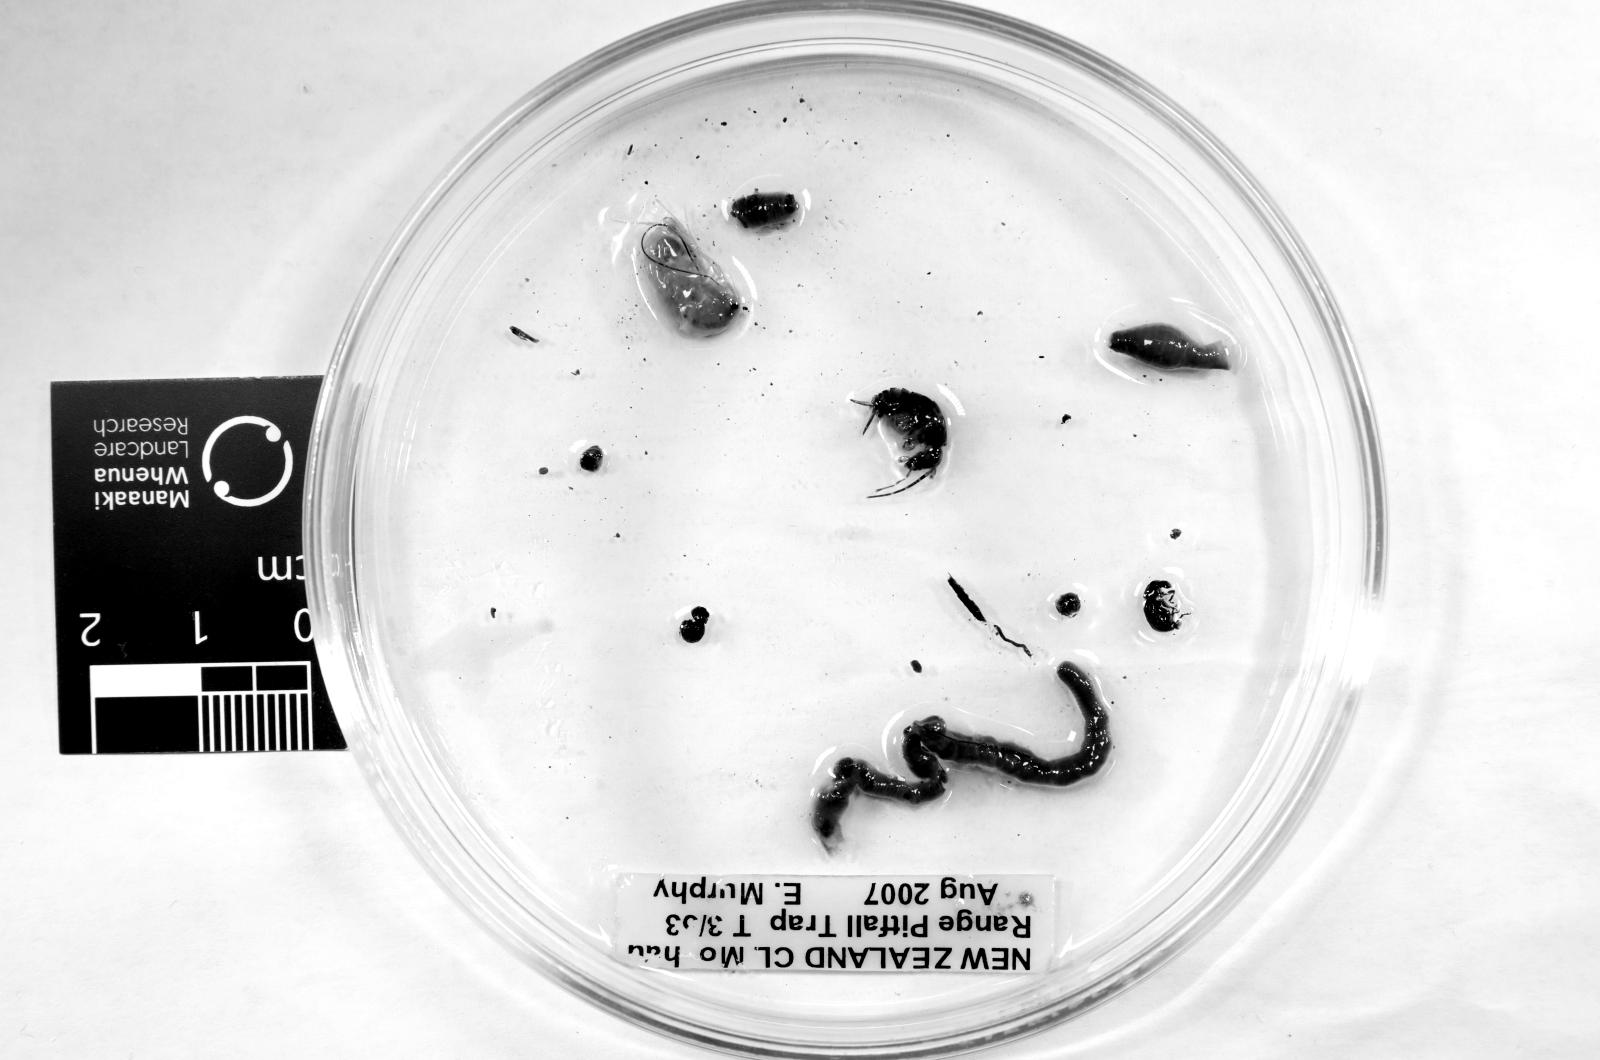amphipoda: (641, 214, 740, 336)
annelida: (812, 661, 1113, 854)
coleoptera: (1144, 581, 1181, 634), (681, 606, 710, 642)
